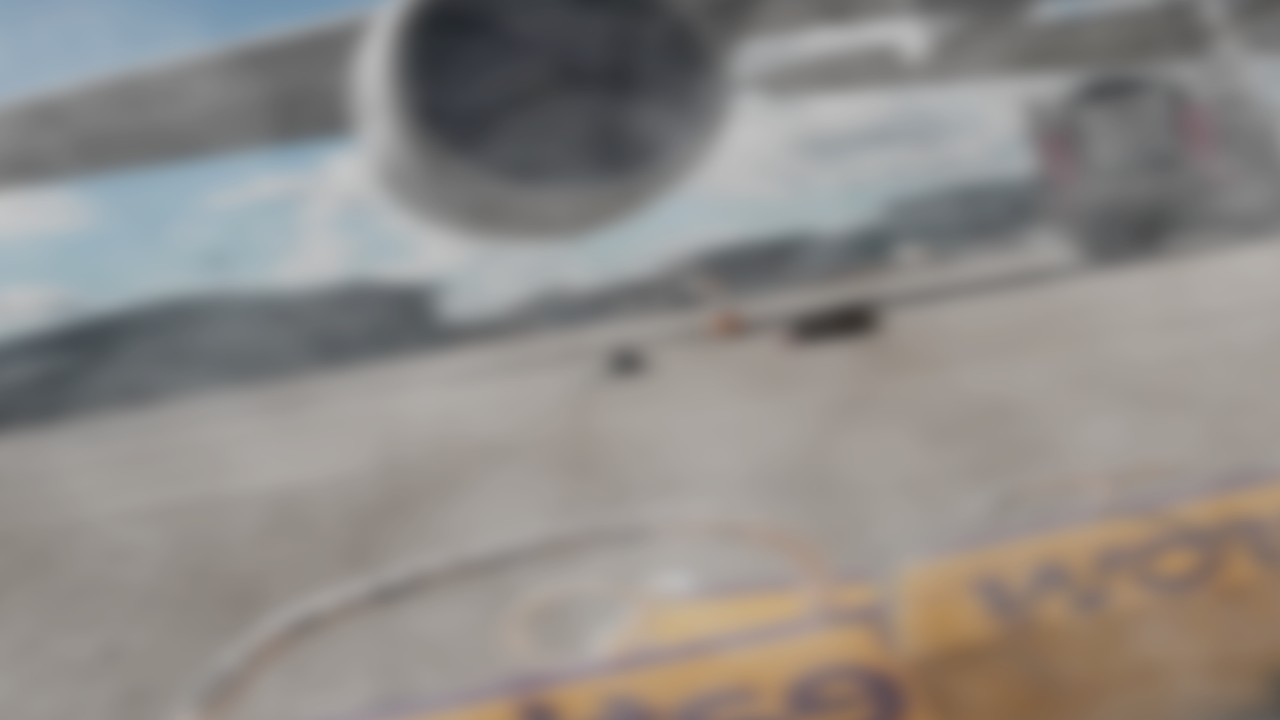chock: (0, 541, 1253, 720), (632, 378, 1280, 720), (855, 369, 1280, 720)
